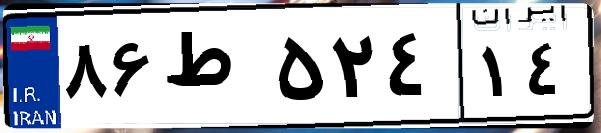1: (475, 38, 525, 113)
2: (330, 28, 385, 110)
4: (385, 28, 445, 110), (525, 38, 570, 115)
5: (270, 28, 330, 110)
6: (110, 28, 158, 98)
8: (57, 26, 110, 100)
ط: (158, 20, 270, 120)
